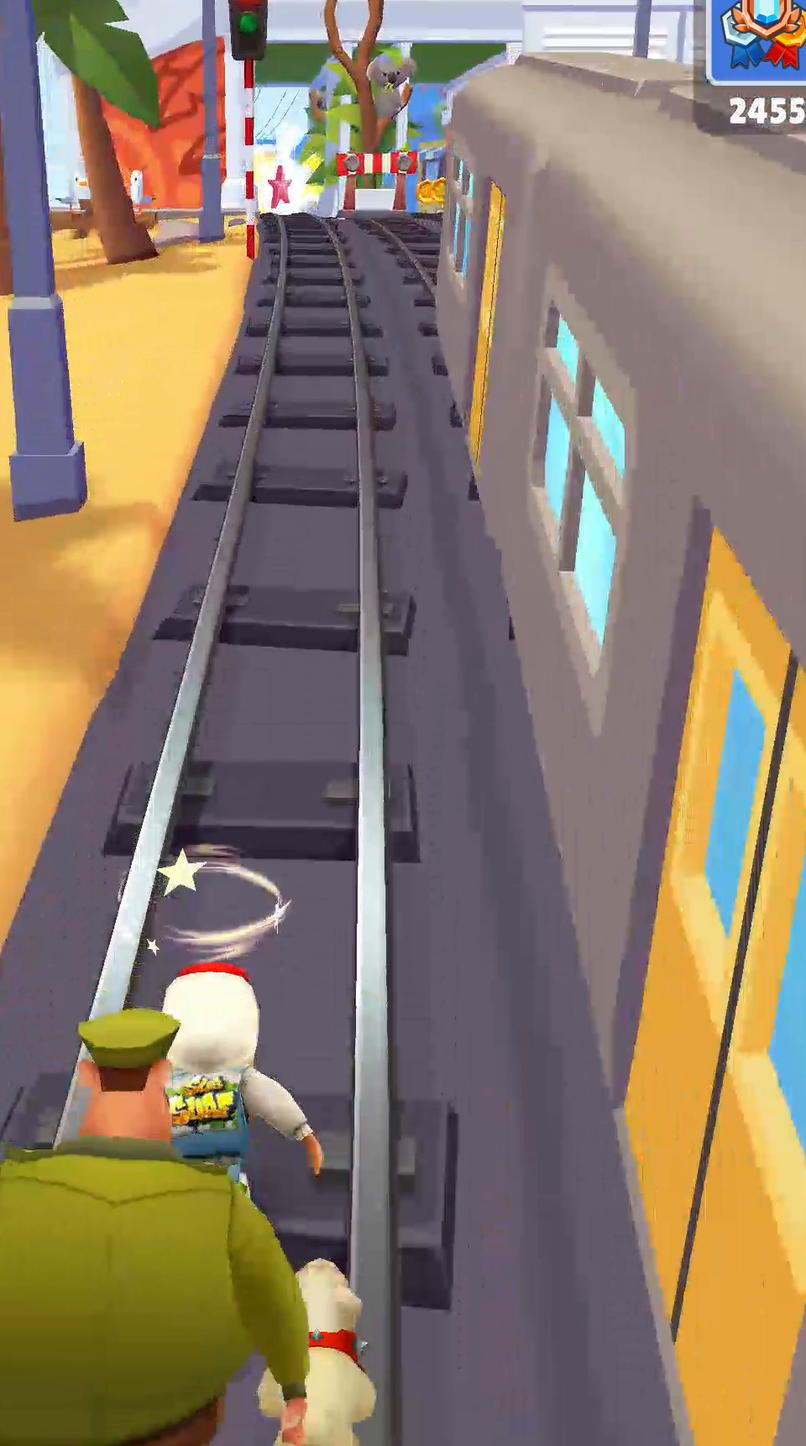block pillar: (299, 0, 416, 214)
police: (0, 1009, 308, 1445)
train: (437, 52, 805, 1445)
